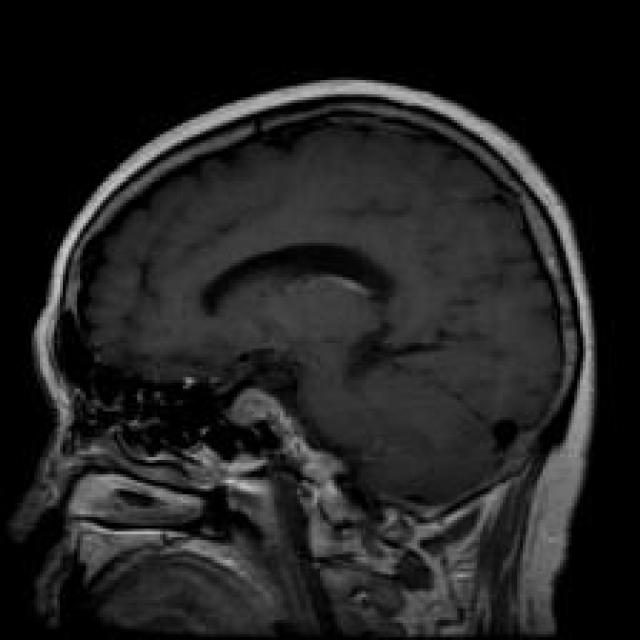pituitary_tumor: (211, 372, 324, 444)
